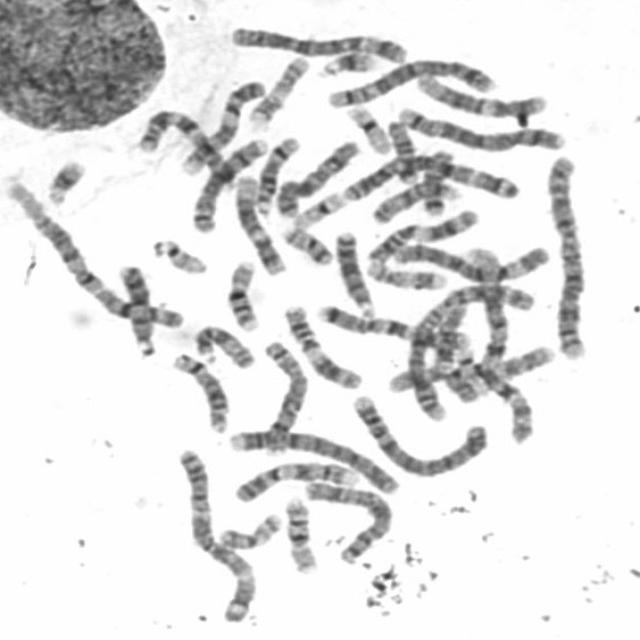A1: (0, 173, 188, 337), (460, 236, 539, 444)
A2: (399, 278, 539, 425), (542, 148, 592, 362)
A3: (172, 444, 262, 625), (333, 146, 523, 204)
B4: (347, 388, 493, 480), (220, 423, 404, 495)
B5: (322, 53, 499, 108), (392, 100, 570, 154)
C10: (401, 302, 472, 423), (443, 340, 557, 400)
C11: (277, 299, 366, 392), (360, 201, 481, 265)
C12: (412, 68, 550, 120), (229, 169, 291, 277)
C6: (224, 20, 410, 64), (391, 236, 554, 282)
C7: (134, 104, 242, 192), (313, 299, 475, 353)
C8: (186, 132, 270, 234), (256, 335, 311, 457)
C9: (175, 74, 269, 176), (230, 456, 364, 504)
D13: (112, 258, 159, 358), (329, 225, 378, 318)
D14: (167, 347, 233, 435), (251, 131, 304, 215)
D15: (365, 176, 464, 226), (190, 320, 259, 370)
E16: (280, 492, 322, 574), (220, 254, 264, 332)
E17: (242, 51, 313, 127), (360, 256, 449, 291)
E18: (382, 115, 421, 185), (418, 145, 455, 216)
F19: (341, 99, 394, 155), (289, 187, 349, 230)
F20: (214, 506, 285, 551), (276, 221, 336, 267)
G21: (40, 153, 89, 206), (314, 45, 378, 79)
G22: (146, 232, 212, 276), (446, 342, 480, 399)
X: (299, 477, 396, 565), (270, 135, 362, 219)
